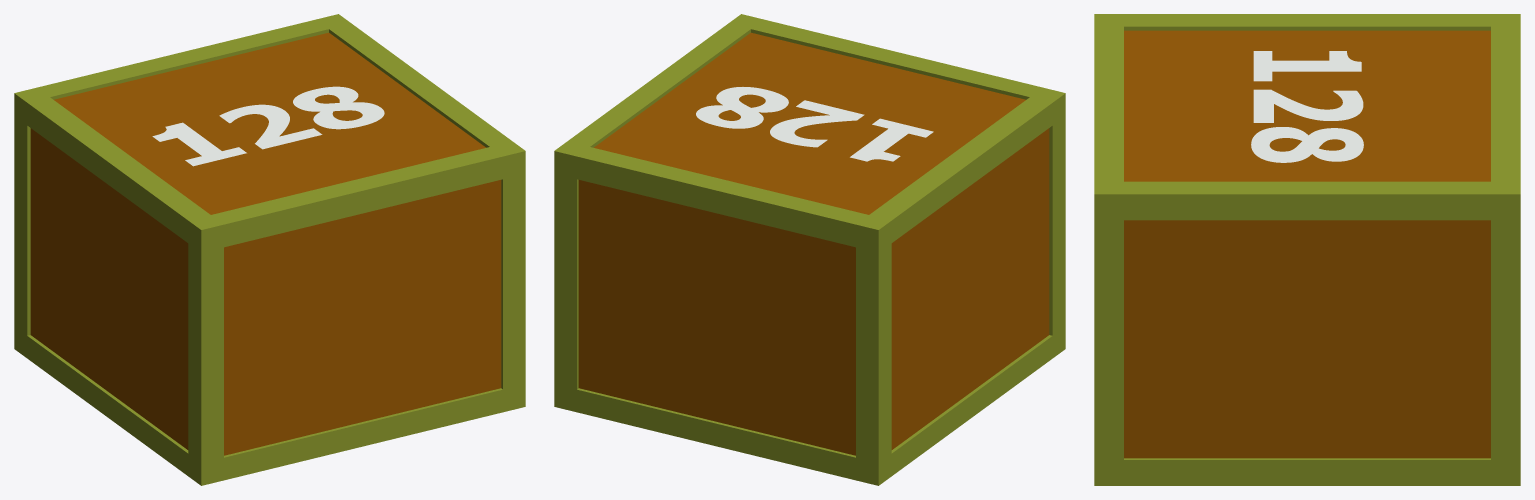
File: 128Prefab.fbx
3 views of the same model, side by side, from view 1: azimuth 30°, elevation 25°; view 2: azimuth 150°, elevation 25°; view 3: azimuth 270°, elevation 25° (orthographic). The views are drawn at different scales.
Parts seen in each view (by area): view 1: Text.006; view 2: Text.006; view 3: Text.006.
Boxes of the visible parts, x1,y1,x2,y2 form: Text.006: [14, 14, 525, 485]; Text.006: [554, 14, 1065, 485]; Text.006: [1094, 14, 1520, 485].
Size of the model in its own units: 194 by 146 by 194.
